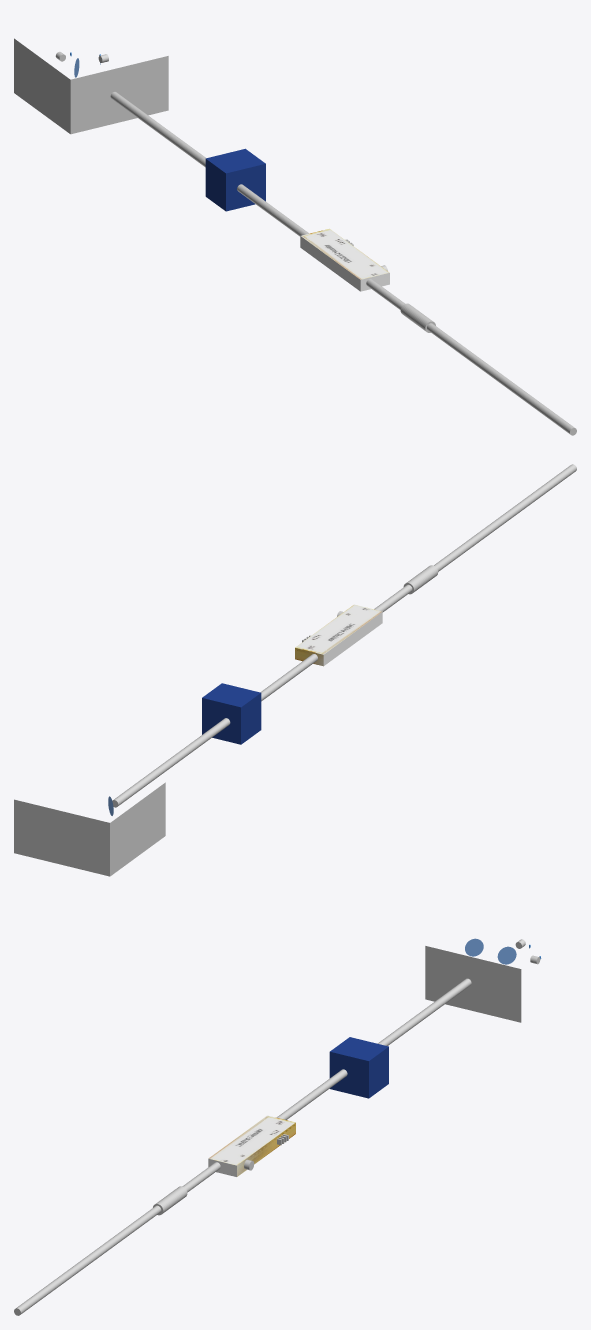
Rendered from quantum.glb.
3 renders of one model, top to bottom at view 1: azimuth 30°, elevation 25°; view 2: azimuth 150°, elevation 25°; view 3: azimuth 330°, elevation 25°, orthographic.
Visible parts, largest first — view 1: Cube.006, tunnel, Cube.005, Cube; view 2: Cube.006, tunnel, Cube.005, Cube; view 3: Cube.006, tunnel, Cube.005, Cube.
Part boxes in pixels (box(x1,y1,x2,y2)): Cube.006: box(14, 38, 168, 134); tunnel: box(110, 92, 576, 435); Cube.005: box(205, 148, 265, 211); Cube: box(300, 228, 389, 291); Cube.006: box(14, 782, 165, 876); tunnel: box(112, 464, 576, 807); Cube.005: box(202, 683, 261, 744); Cube: box(295, 604, 382, 666); Cube.006: box(425, 946, 521, 1022); tunnel: box(14, 978, 471, 1315); Cube.005: box(329, 1037, 388, 1098); Cube: box(208, 1115, 295, 1176).
Size of the model in its own units: 4.9 by 2.62 by 44.73.
Materials: 5 (1 with a texture image).
